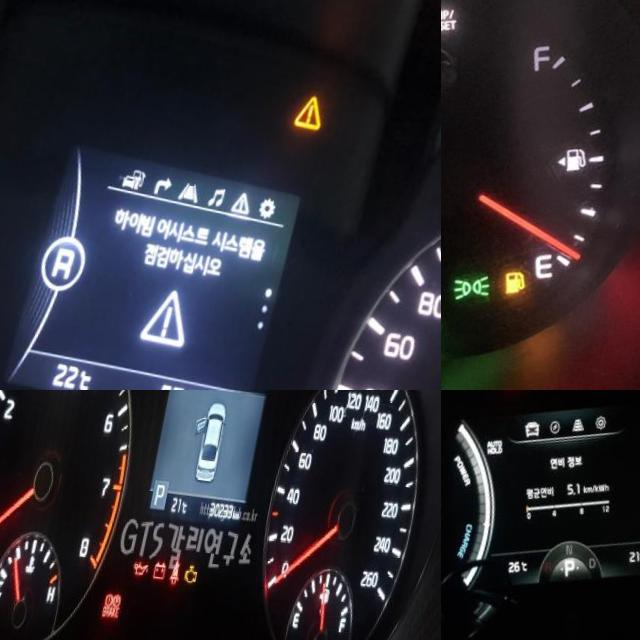Central Warning lamp: (300, 79, 334, 118)
FrontFogLight: (441, 305, 453, 334)
Low fuel level: (515, 258, 540, 286)
SideLamp: (463, 261, 506, 295)
